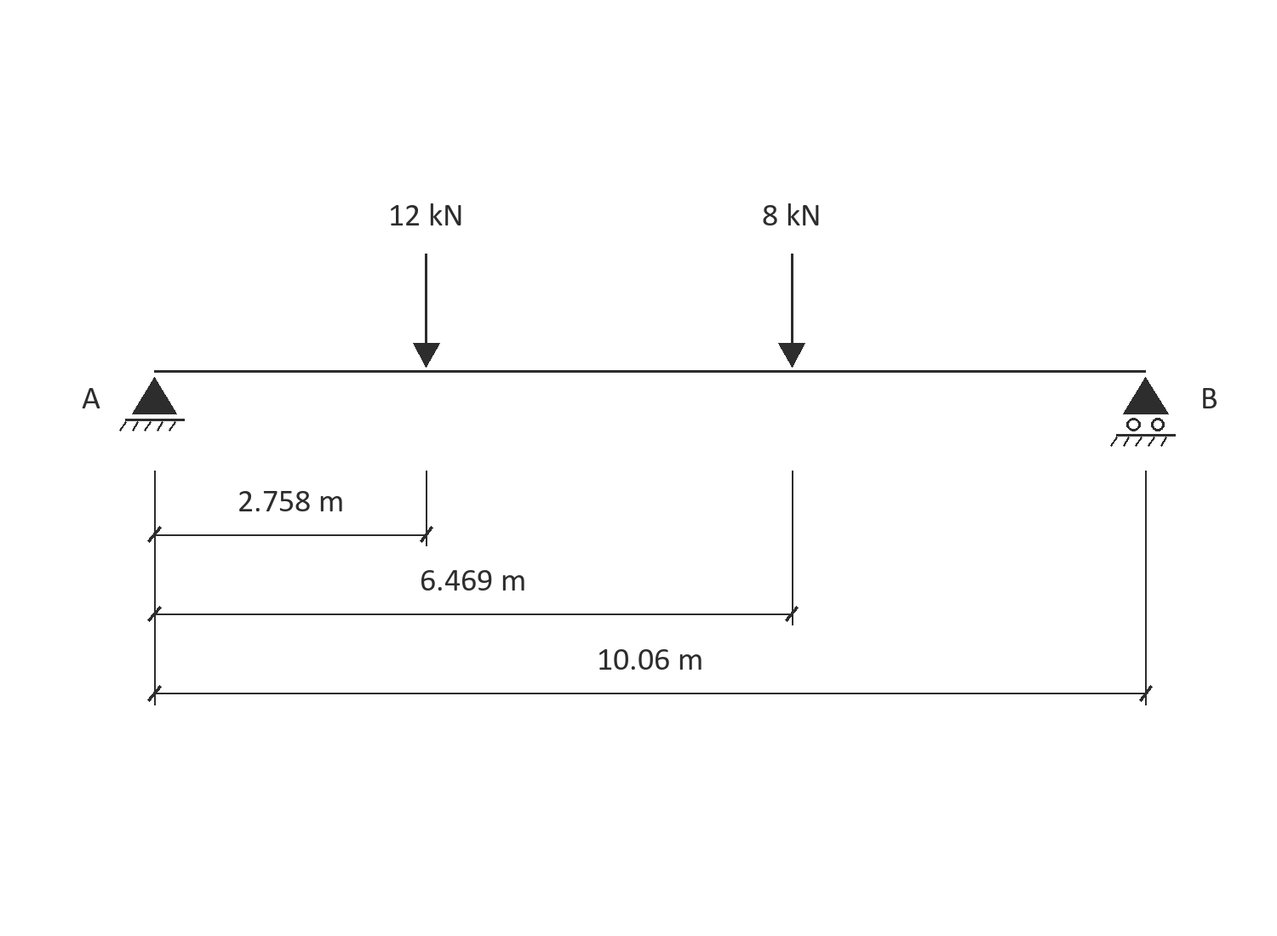pin_support: (119, 377, 185, 431)
point_load: (413, 254, 440, 368), (778, 254, 805, 368)
roller_support: (1110, 377, 1176, 447)
